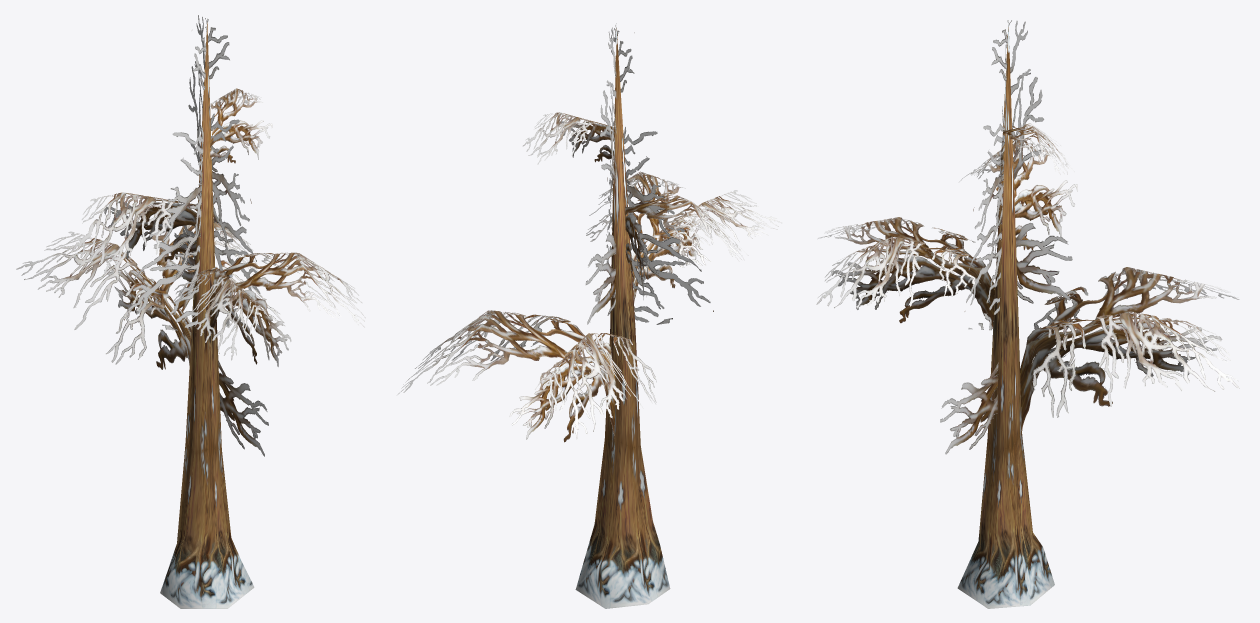
Rendered from wintertree02.obj.
The picture shows the model from 3 angles, left to right: view 1: azimuth 30°, elevation 25°; view 2: azimuth 150°, elevation 25°; view 3: azimuth 270°, elevation 25°; orthographic projection.
Parts seen in each view (by area): view 1: Geoset1, Geoset0; view 2: Geoset1, Geoset0; view 3: Geoset1, Geoset0.
Boxes of the visible parts, x1,y1,x2,y2 form: Geoset1: [16, 15, 365, 456]; Geoset0: [160, 22, 254, 608]; Geoset1: [397, 23, 782, 442]; Geoset0: [575, 24, 670, 608]; Geoset1: [816, 20, 1239, 454]; Geoset0: [957, 21, 1054, 608].
Bounding box in the file's own units: 26.12 × 55.43 × 38.12.
2 materials, 2 textured.
